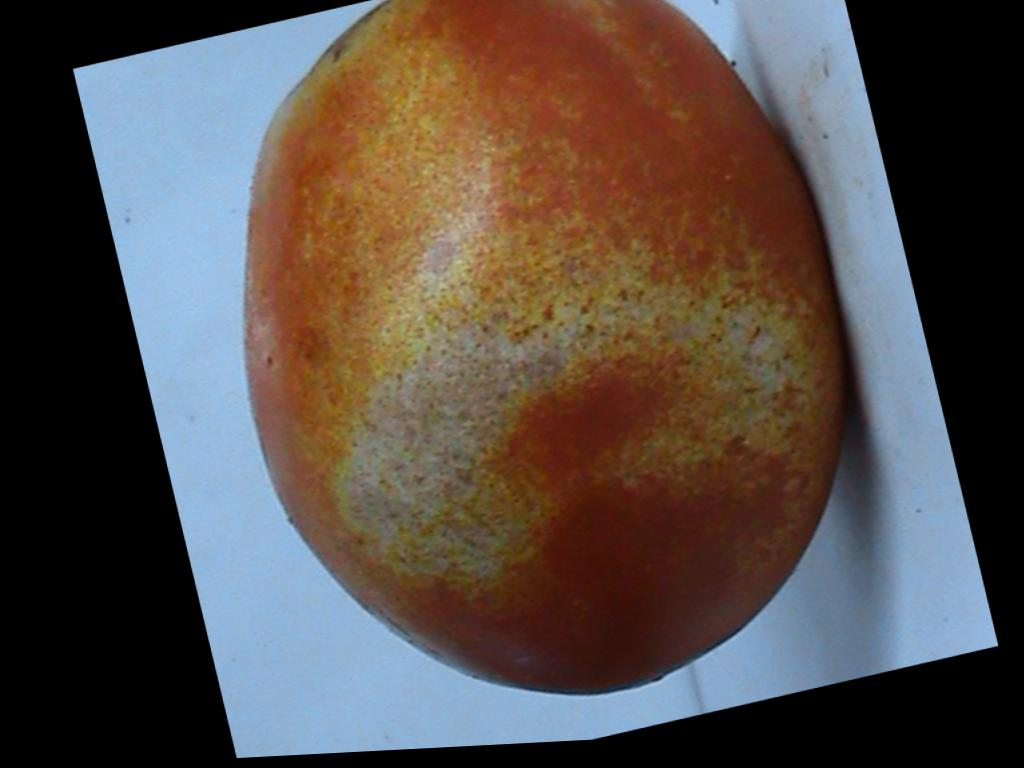bruise_discoloration: (244, 0, 818, 587), (557, 0, 624, 64)
tomato: (244, 0, 839, 694)
